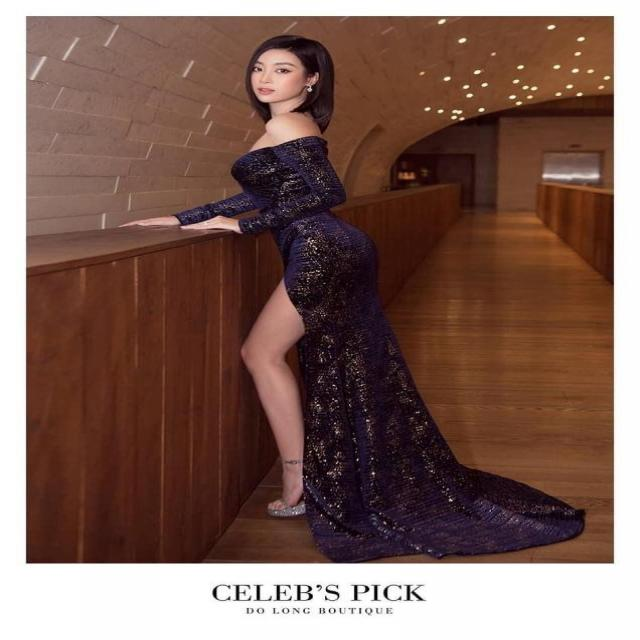clothes: (196, 131, 529, 557)
